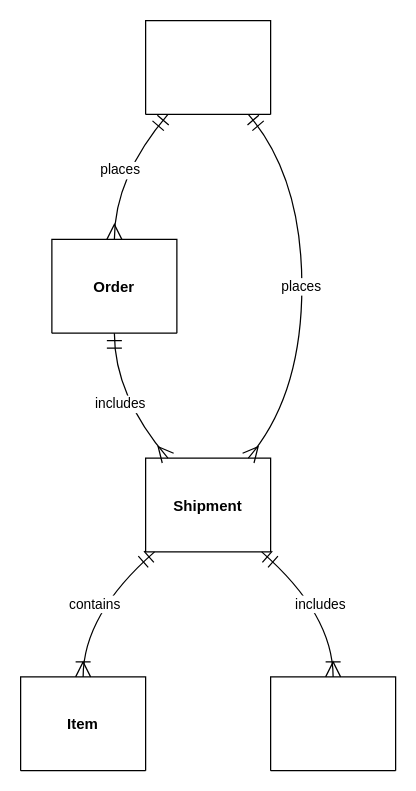
This 416x791 diagram has some shape labels left out. The centre of each missing label's shape, as x and y in pixels:
Customer: (207,66)
Tracking: (332,723)
